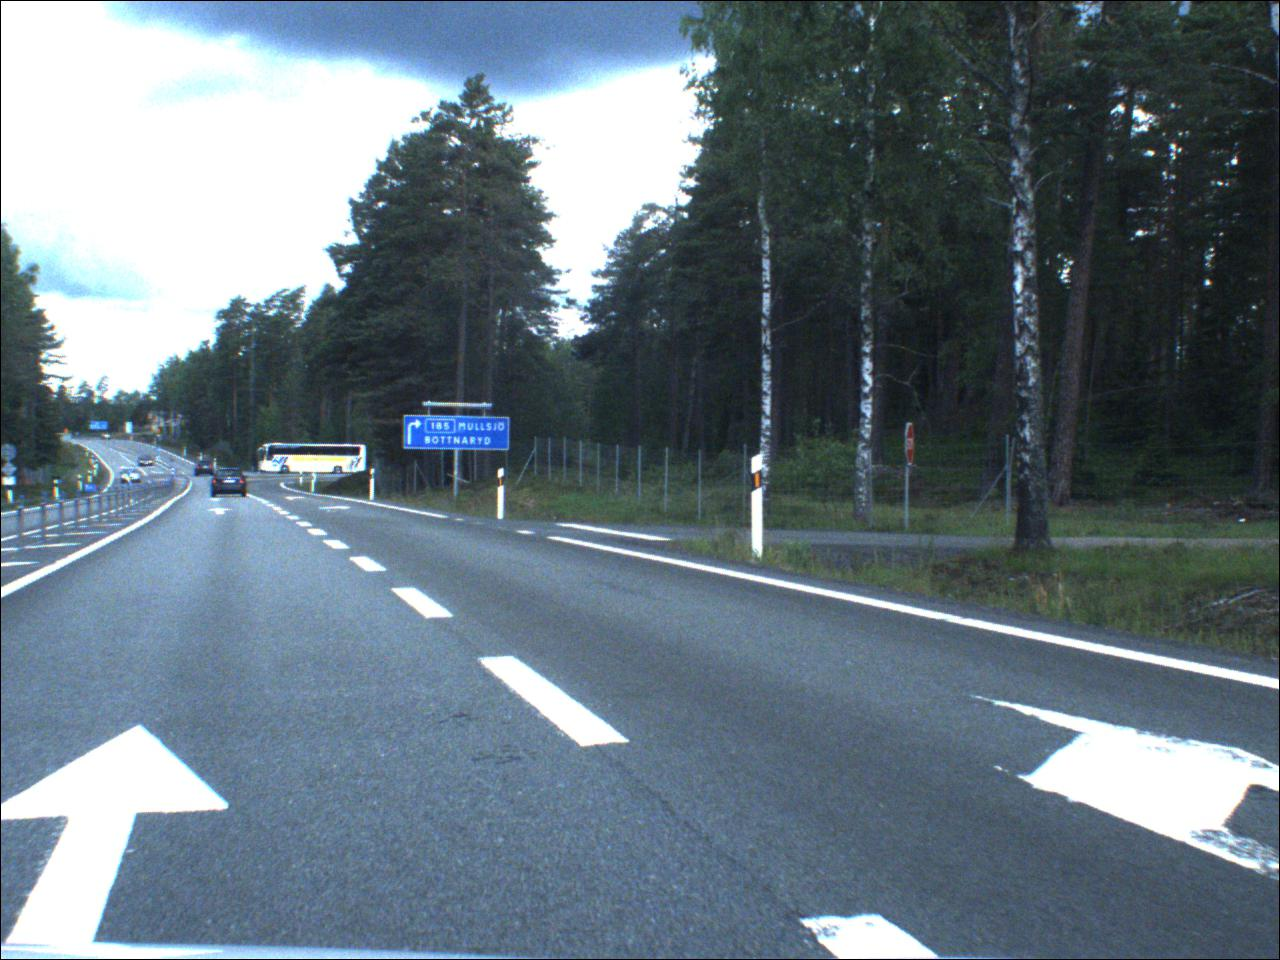STOP: (904, 419, 918, 469)
